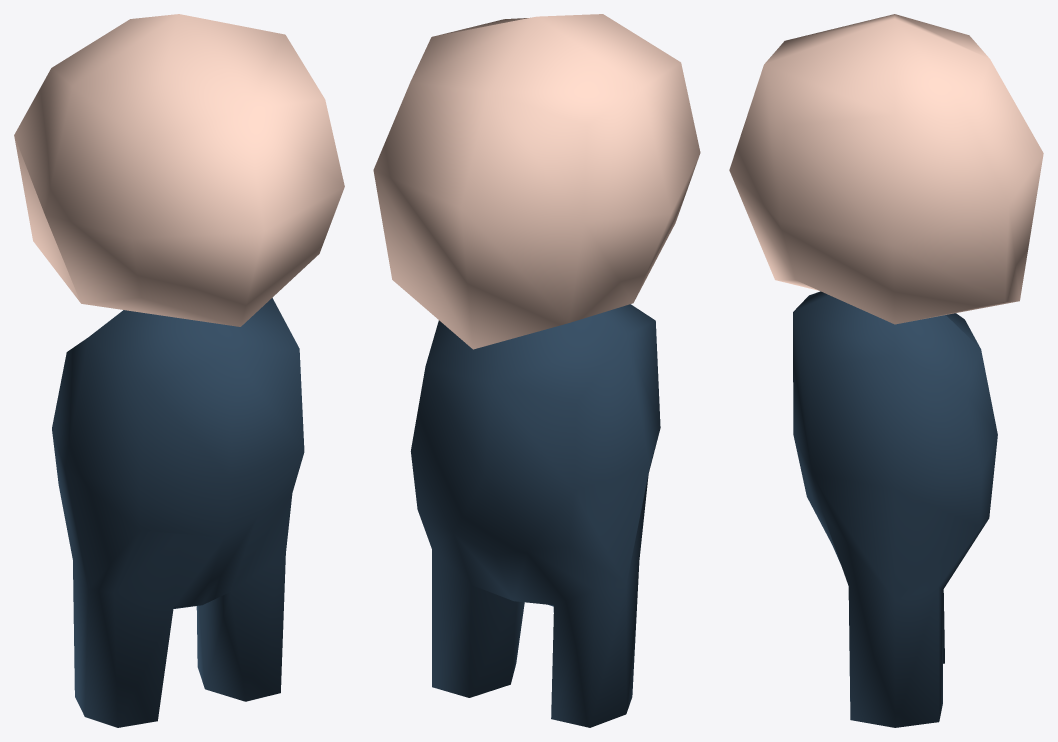
File: Chibi Human.fbx
3 views of the same model, side by side, from view 1: azimuth 30°, elevation 25°; view 2: azimuth 150°, elevation 25°; view 3: azimuth 270°, elevation 25° (orthographic). The views are drawn at different scales.
Visible parts, largest first — view 1: Cube.001, Cube; view 2: Cube, Cube.001; view 3: Cube, Cube.001.
Part boxes in pixels (x1=…): Cube.001: x1=52, y1=298, x2=304, y2=727; Cube: x1=14, y1=14, x2=344, y2=326; Cube: x1=373, y1=14, x2=700, y2=349; Cube.001: x1=410, y1=304, x2=660, y2=727; Cube: x1=729, y1=14, x2=1043, y2=324; Cube.001: x1=793, y1=291, x2=997, y2=727.
Size of the model in its own units: 45.7 by 110 by 47.23.
